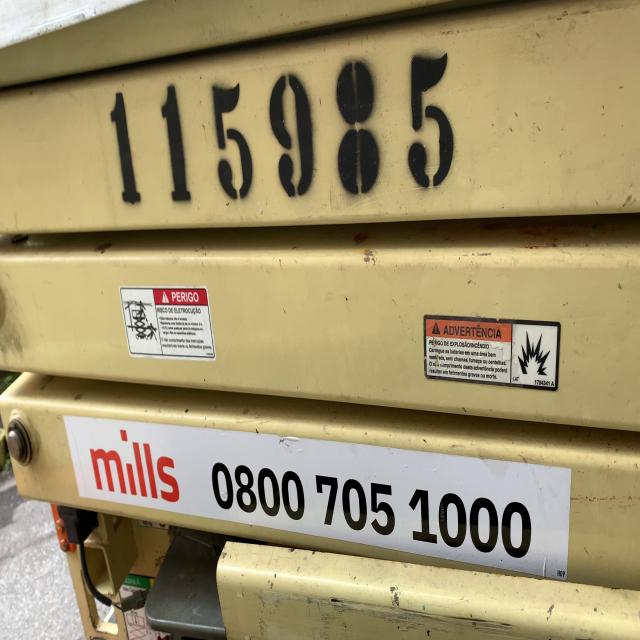Adesivo Longo: (60, 410, 574, 586)
